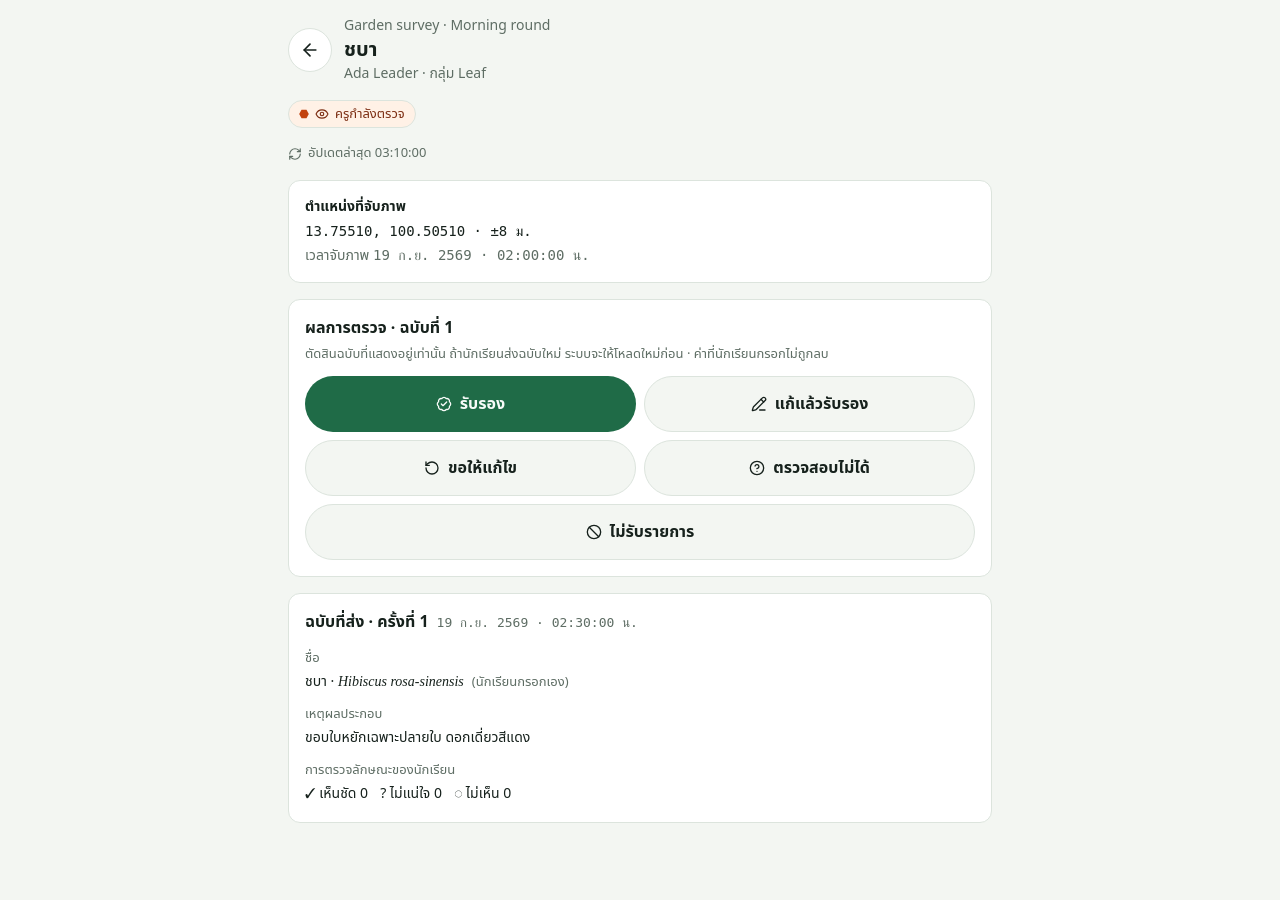
Test: teacher decisions › reports a decision that lost to another teacher or a new version
What coordinates should you click on to do the following:
click the button "รับรอง"
I would click on:
 (470, 404)
Its box is x1=305 y1=376 x2=636 y2=432.
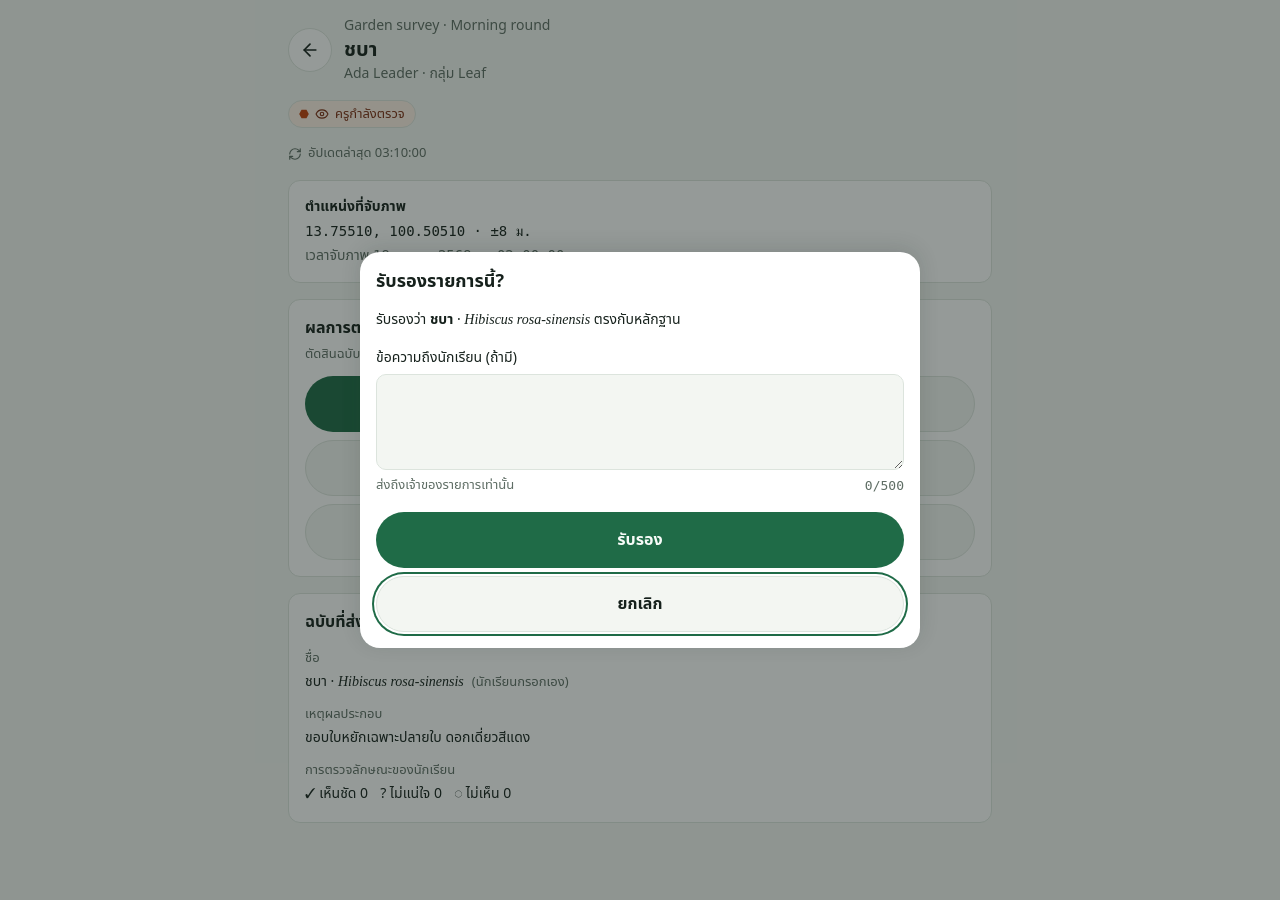
What coordinates should you click on to do the following:
click the button "รับรอง"
I would click on:
 (640, 540)
Its box is x1=376 y1=512 x2=904 y2=568.
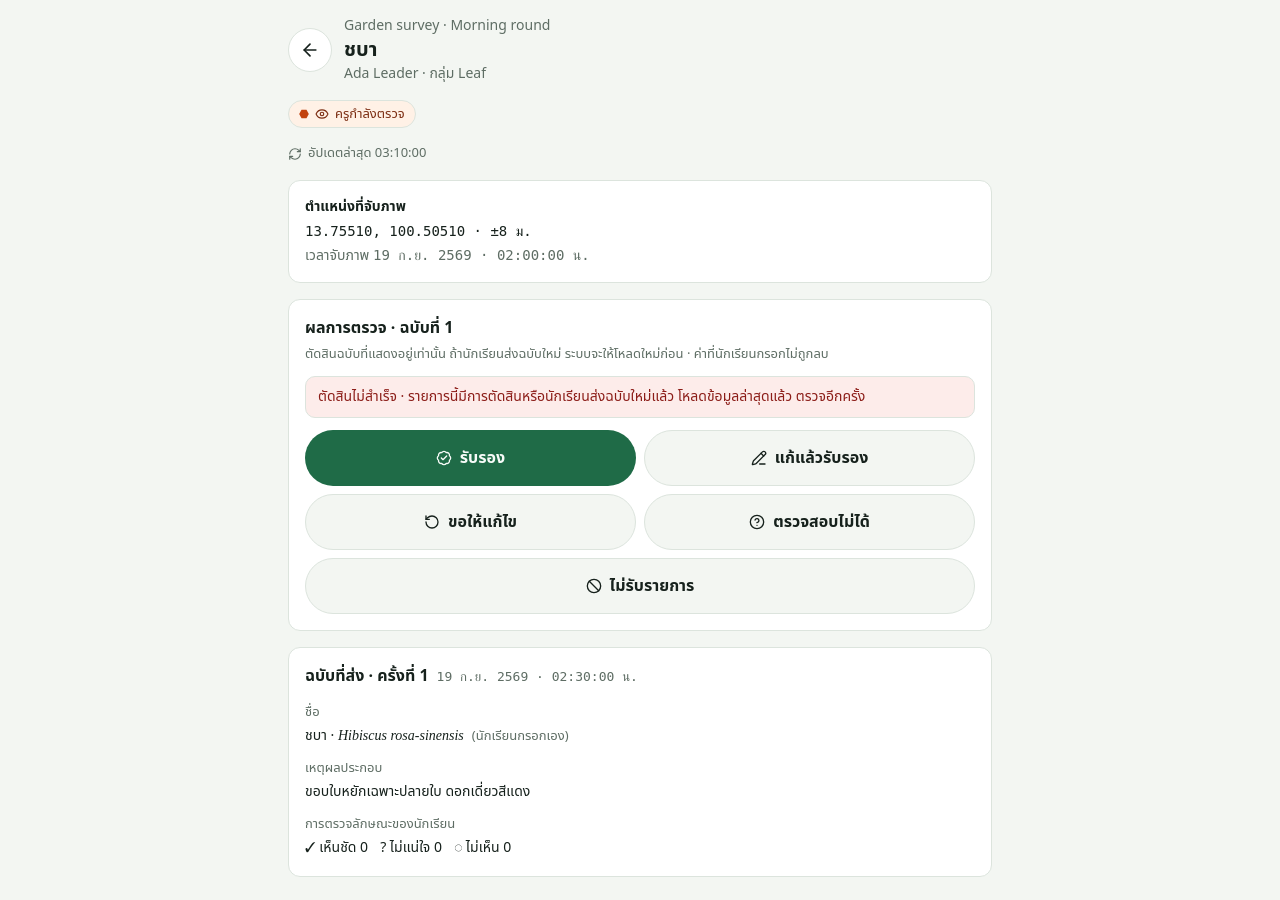
Now the text "รายการนี้มีการตัดสินหรือนักเรียนส่งฉบับใหม่แล้ว" is shown, box x1=318 y1=386 x2=865 y2=406
